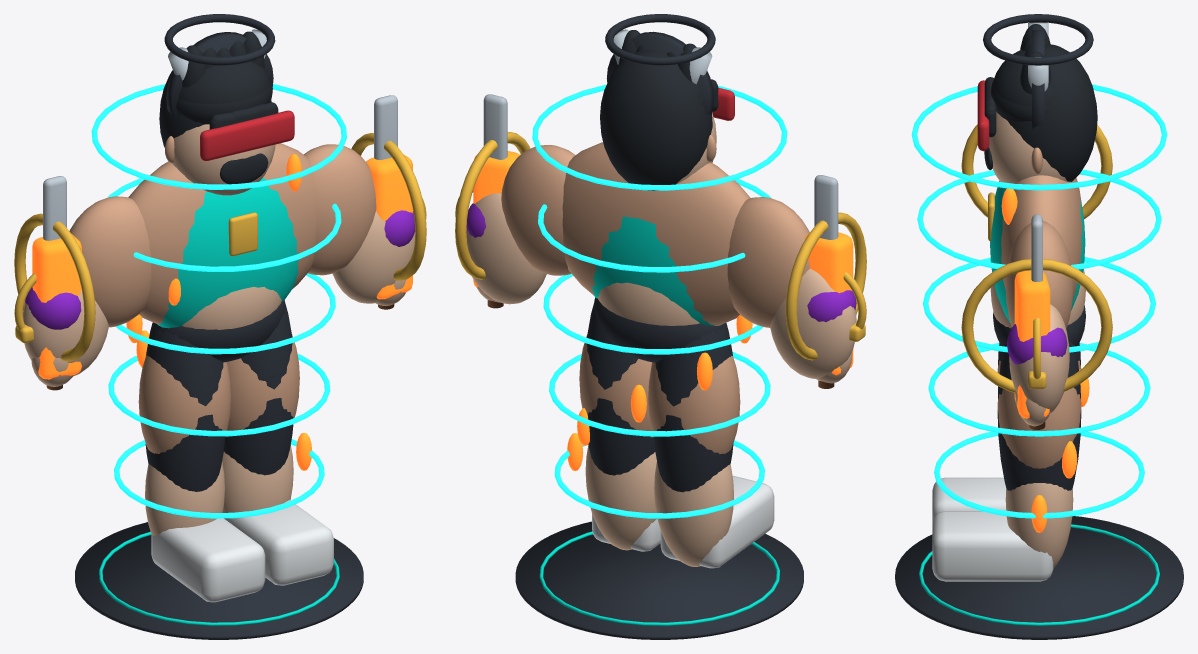
The model's file is maweg-avatar.glb.
3 views of the same model, side by side, from view 1: azimuth 30°, elevation 25°; view 2: azimuth 150°, elevation 25°; view 3: azimuth 270°, elevation 25° (orthographic).
Parts seen in each view (by area): view 1: Stage.Ground, Top.top-03.Chest, Body.physique.Torso, Body.power.UpperArm.R, Shoes.shoes-01.R, Bottom.bottom-01.Leg.R, Body.power.UpperArm.L, Shoes.shoes-01.L, Bottom.bottom-01.Leg.L, Body.power.Thigh.R, Body.power.Forearm.L, Body.power.Shin.R (+28 smaller); view 2: Stage.Ground, Body.physique.Torso, Hair.hair-03.Long, Body.power.UpperArm.R, Body.power.UpperArm.L, Bottom.bottom-01.Leg.R, Body.power.Shin.R, Bottom.bottom-01.Leg.L, Body.power.Thigh.R, Top.top-03.Chest, Body.power.Forearm.R, Body.power.Forearm.L (+21 smaller); view 3: Stage.Ground, Shoes.shoes-01.L, Hair.hair-03.Long, LeftHand.left-02.Bow, Body.physique.Torso, Body.power.Thigh.L, Body.power.Shin.L, Effect.effect-01.Ring1.95, Body.power.UpperArm.L, Bottom.bottom-01.Leg.L, LeftHand.left-04.Tool, Body.power.Forearm.L (+24 smaller).
Boxes of the visible parts, x1,y1,x2,y2 form: Stage.Ground: (75,522,363,639); Top.top-03.Chest: (157,178,298,328); Body.physique.Torso: (128,143,316,324); Body.power.UpperArm.R: (69,196,151,327); Shoes.shoes-01.R: (151,518,265,602); Bottom.bottom-01.Leg.R: (145,322,225,491); Body.power.UpperArm.L: (303,144,376,275); Shoes.shoes-01.L: (225,500,333,585); Bottom.bottom-01.Leg.L: (223,304,293,475); Body.power.Thigh.R: (138,355,230,453); Body.power.Forearm.L: (332,211,415,303); Body.power.Shin.R: (145,461,224,535); Stage.Ground: (515,521,803,639); Body.physique.Torso: (562,142,750,325); Hair.hair-03.Long: (600,49,712,190); Body.power.UpperArm.R: (727,197,809,327); Body.power.UpperArm.L: (501,145,575,275); Bottom.bottom-01.Leg.R: (654,323,733,492); Body.power.Shin.R: (654,462,733,566); Bottom.bottom-01.Leg.L: (586,304,655,475); Body.power.Thigh.R: (648,355,740,454); Top.top-03.Chest: (592,216,722,326); Body.power.Forearm.R: (770,268,856,378); Body.power.Forearm.L: (466,193,546,304); Stage.Ground: (895,516,1183,639); Shoes.shoes-01.L: (932,511,1053,581); Hair.hair-03.Long: (1008,44,1097,181); LeftHand.left-02.Bow: (961,259,1112,392); Body.physique.Torso: (1001,175,1082,300); Body.power.Thigh.L: (997,387,1081,468); Body.power.Shin.L: (1005,483,1073,568); Effect.effect-01.Ring1.95: (911,84,1167,190); Body.power.UpperArm.L: (1005,221,1073,328); Bottom.bottom-01.Leg.L: (997,342,1081,490); LeftHand.left-04.Tool: (1014,270,1050,418); Body.power.Forearm.L: (1009,304,1069,412).
Bounding box in the file's own units: 2.04 × 2.57 × 1.24.
